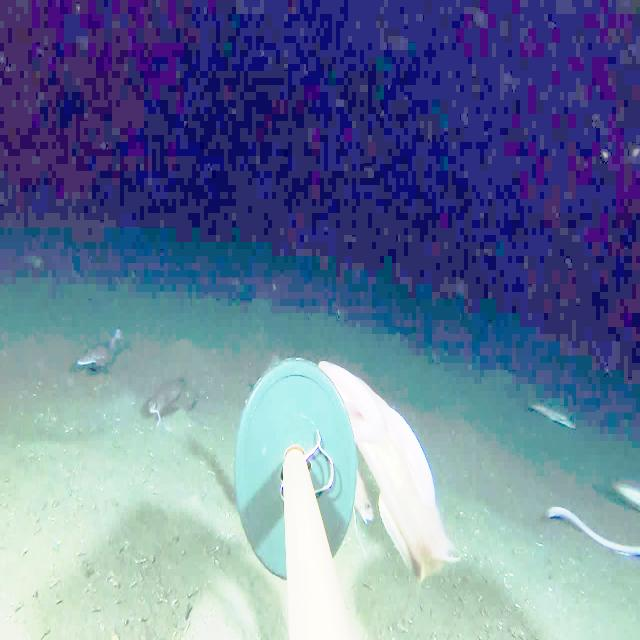eel: (312, 349, 445, 515), (540, 500, 640, 558)
fish: (354, 404, 462, 601), (139, 361, 198, 446), (72, 326, 130, 379), (525, 389, 584, 439), (602, 461, 640, 531), (350, 457, 380, 537)
pole: (230, 356, 359, 639)
